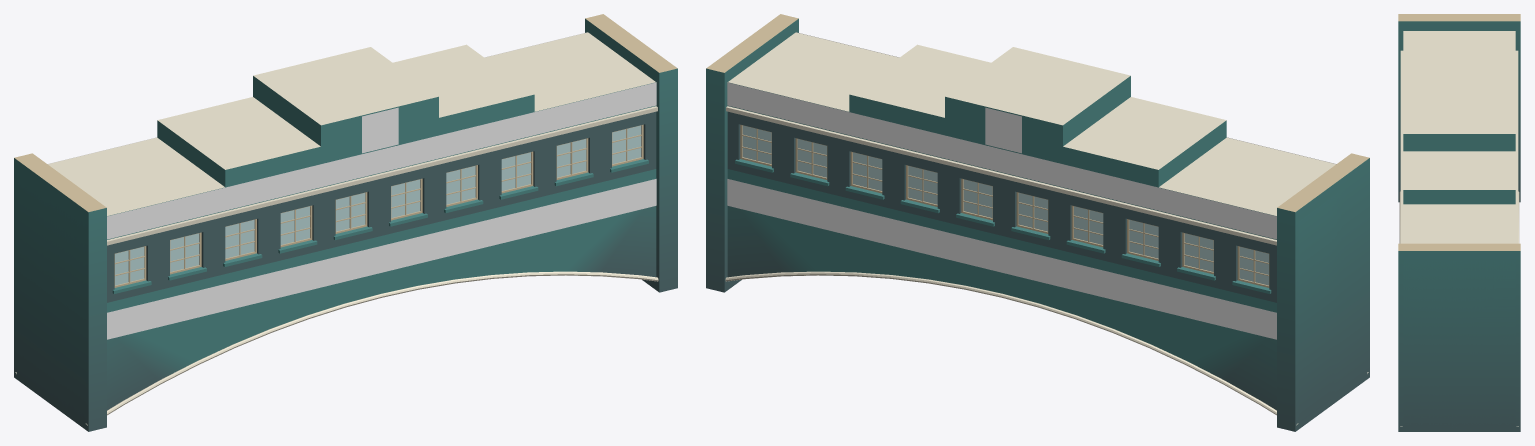
Rendered from KC32__AD_Ext_Skybridge.glb.
3 views of the same model, side by side, from view 1: azimuth 30°, elevation 25°; view 2: azimuth 150°, elevation 25°; view 3: azimuth 270°, elevation 25° (orthographic). The views are drawn at different scales.
Parts seen in each view (by area): view 1: KC32_CORPS__AD_Ext_Skybridge, KC32_LUMIERE__AD_Ext_Skybridge, KC32_ACCENT__AD_Ext_Skybridge, KC32_VITRAGE__AD_Ext_Skybridge, KC32_BRONZE__AD_Ext_Skybridge; view 2: KC32_CORPS__AD_Ext_Skybridge, KC32_LUMIERE__AD_Ext_Skybridge, KC32_ACCENT__AD_Ext_Skybridge, KC32_VITRAGE__AD_Ext_Skybridge, KC32_BRONZE__AD_Ext_Skybridge; view 3: KC32_CORPS__AD_Ext_Skybridge, KC32_LUMIERE__AD_Ext_Skybridge, KC32_BRONZE__AD_Ext_Skybridge.
Boxes of the visible parts, x1=… form: KC32_CORPS__AD_Ext_Skybridge: x1=14, y1=18, x2=677, y2=431; KC32_LUMIERE__AD_Ext_Skybridge: x1=15, y1=32, x2=658, y2=425; KC32_ACCENT__AD_Ext_Skybridge: x1=47, y1=32, x2=656, y2=339; KC32_VITRAGE__AD_Ext_Skybridge: x1=115, y1=125, x2=641, y2=285; KC32_BRONZE__AD_Ext_Skybridge: x1=14, y1=14, x2=677, y2=287; KC32_CORPS__AD_Ext_Skybridge: x1=706, y1=18, x2=1369, y2=431; KC32_LUMIERE__AD_Ext_Skybridge: x1=725, y1=32, x2=1368, y2=425; KC32_ACCENT__AD_Ext_Skybridge: x1=727, y1=32, x2=1336, y2=339; KC32_VITRAGE__AD_Ext_Skybridge: x1=742, y1=125, x2=1268, y2=285; KC32_BRONZE__AD_Ext_Skybridge: x1=706, y1=14, x2=1369, y2=287; KC32_CORPS__AD_Ext_Skybridge: x1=1398, y1=21, x2=1520, y2=431; KC32_LUMIERE__AD_Ext_Skybridge: x1=1399, y1=31, x2=1519, y2=426; KC32_BRONZE__AD_Ext_Skybridge: x1=1398, y1=14, x2=1520, y2=250.
Bounding box in the file's own units: 16.03 × 6.4 × 3.5.
